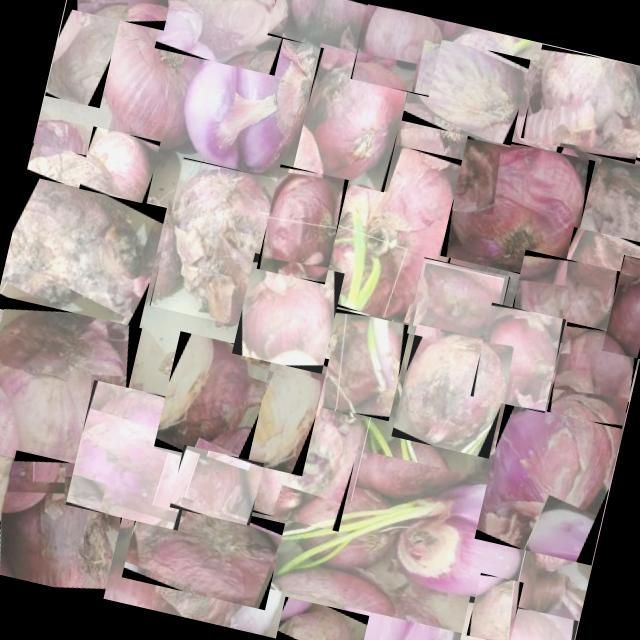healthy: (451, 595, 578, 640)
rotten: (316, 135, 472, 329), (474, 375, 628, 566), (0, 175, 166, 340), (0, 297, 141, 479), (149, 157, 287, 329), (440, 132, 594, 284), (230, 370, 370, 532), (65, 380, 206, 530), (122, 490, 284, 610), (0, 449, 130, 598), (292, 42, 413, 192), (390, 322, 514, 458), (154, 331, 272, 467), (212, 338, 328, 476), (400, 34, 529, 148), (520, 43, 640, 163), (231, 252, 344, 374), (506, 250, 620, 352), (539, 139, 640, 253), (256, 164, 348, 284), (313, 308, 410, 421), (470, 302, 566, 413), (153, 0, 294, 75), (546, 321, 640, 428), (406, 256, 509, 352), (348, 2, 445, 96), (44, 0, 123, 108), (169, 445, 263, 526), (267, 0, 380, 58), (78, 126, 160, 204), (561, 227, 640, 302), (25, 143, 129, 197), (275, 596, 368, 640), (601, 254, 640, 358), (466, 572, 523, 640), (69, 0, 179, 30)
